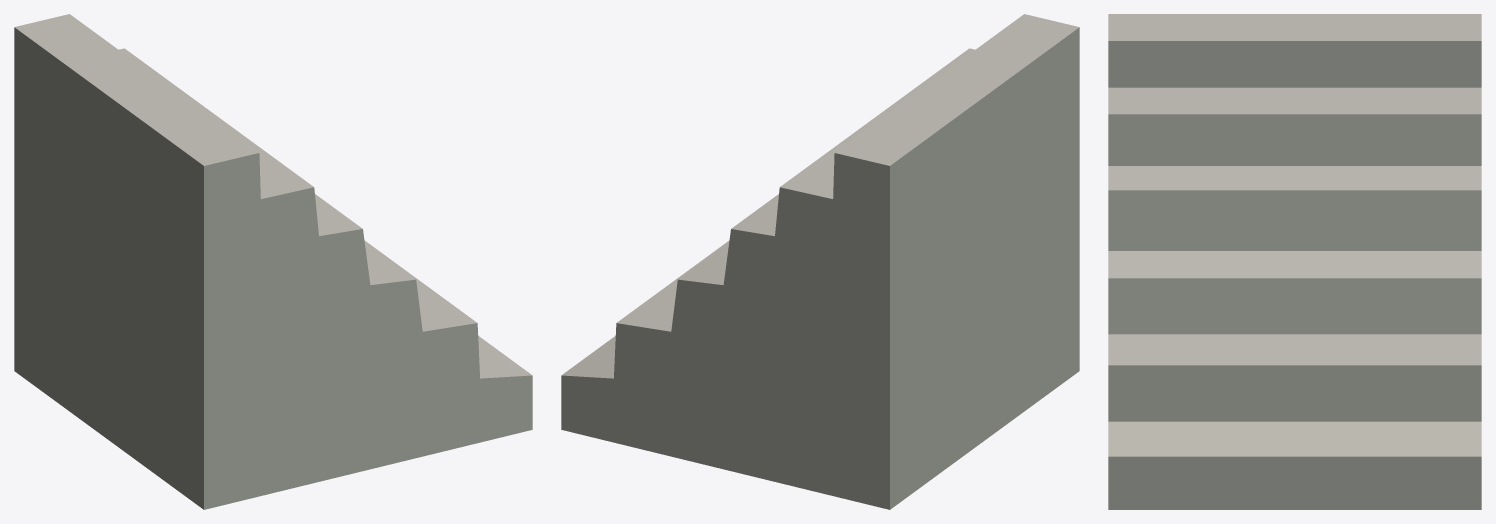
File: stairs.fbx
3 renders of one model, left to right at view 1: azimuth 30°, elevation 25°; view 2: azimuth 150°, elevation 25°; view 3: azimuth 270°, elevation 25°, orthographic.
Visible parts, largest first — view 1: stairs; view 2: stairs; view 3: stairs.
Part boxes in pixels (x1,y1,x2,y2): stairs: (14,14,532,509); stairs: (561,14,1079,509); stairs: (1108,14,1481,509).
Size of the model in its own units: 5 by 5 by 5.
